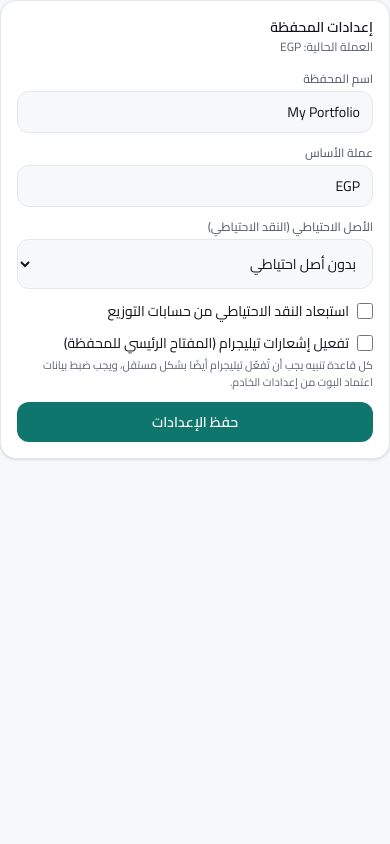
PortfolioSettings › surfaces the backend's rejection when base_currency change is blocked by existing transactions
This screenshot has width=390, height=844.
Replace the text in the field showing "EGP" with "USD" at (195, 186), box 17,165 -> 373,207
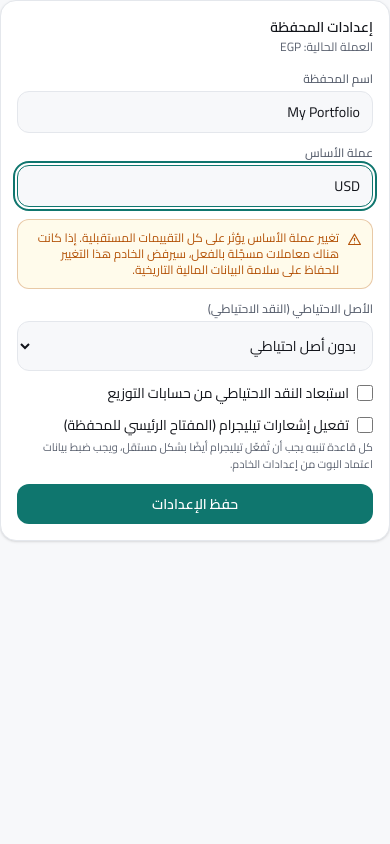
Click the button "حفظ الإعدادات" at (195, 504), box 17,484 -> 373,524
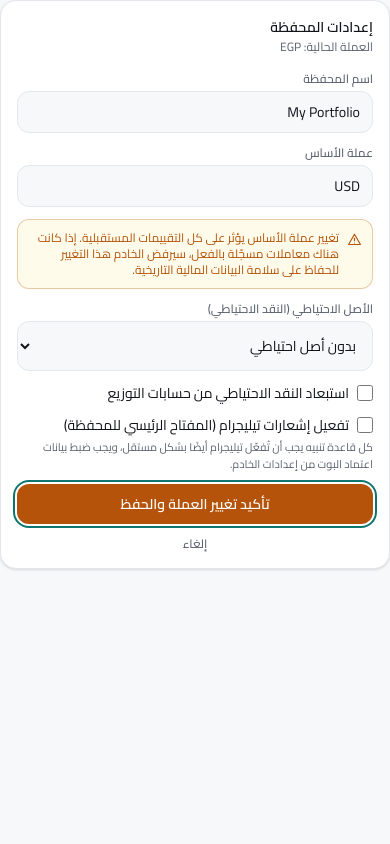
Click the button "تأكيد تغيير العملة والحفظ" at (195, 504), box 17,484 -> 373,524
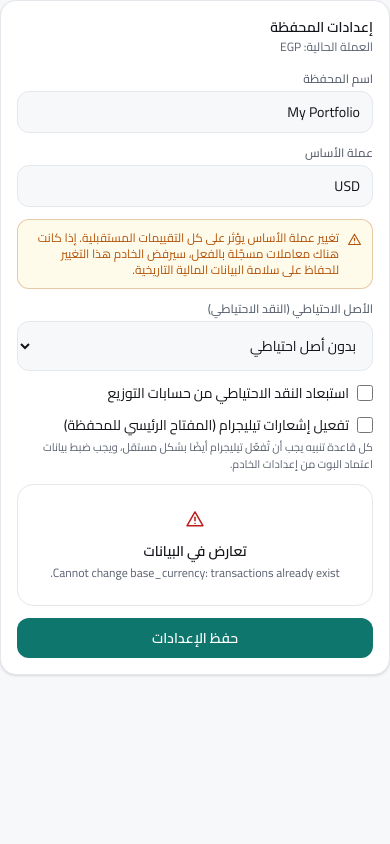
expect the text "تعارض في البيانات" is shown: met, box 143,538 -> 246,564
